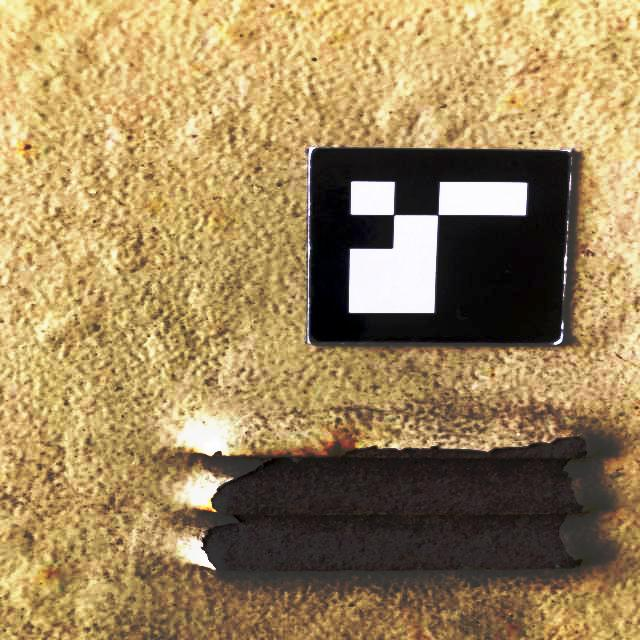Corrosion: (203, 438, 587, 572)
